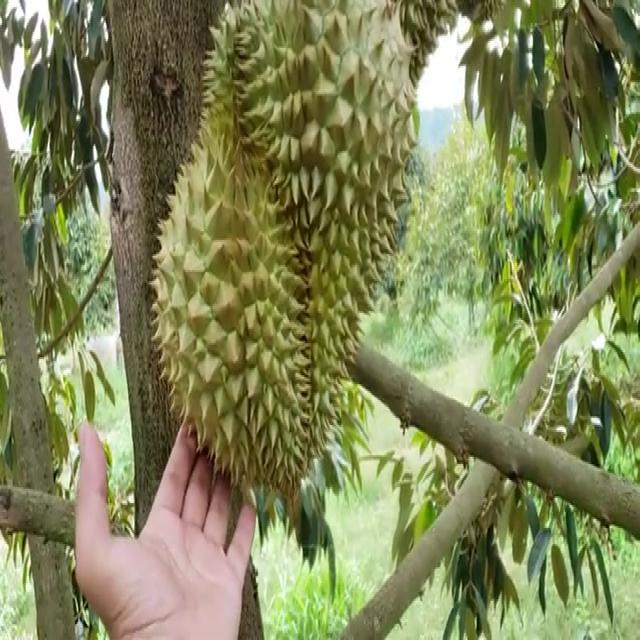durian: (143, 0, 421, 518)
